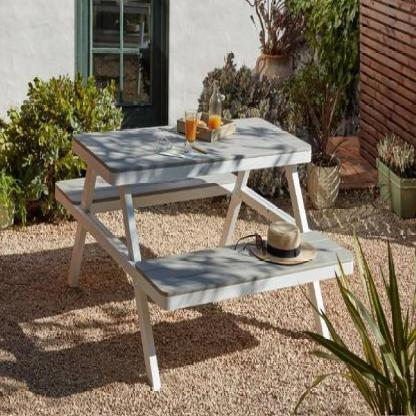table: (52, 111, 356, 393)
